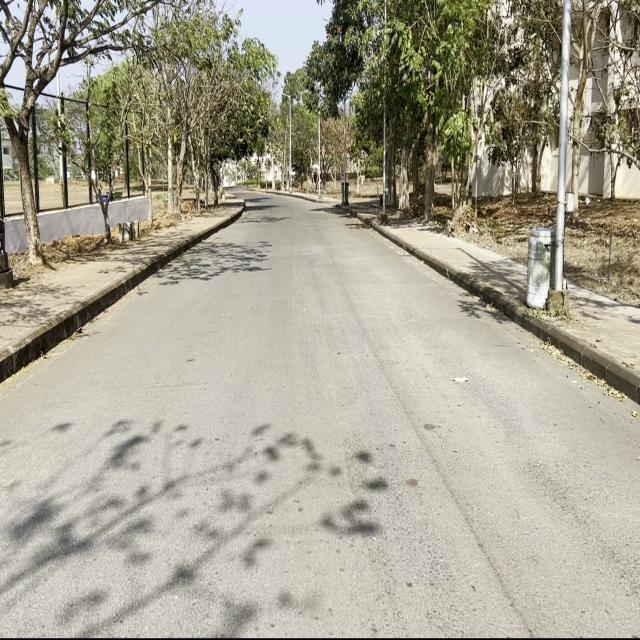Road: (3, 191, 632, 634)
